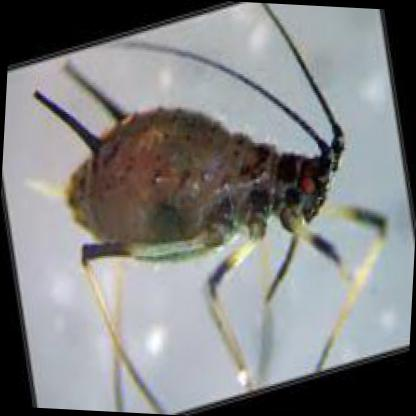uroleucon compositae: (30, 62, 346, 307)
